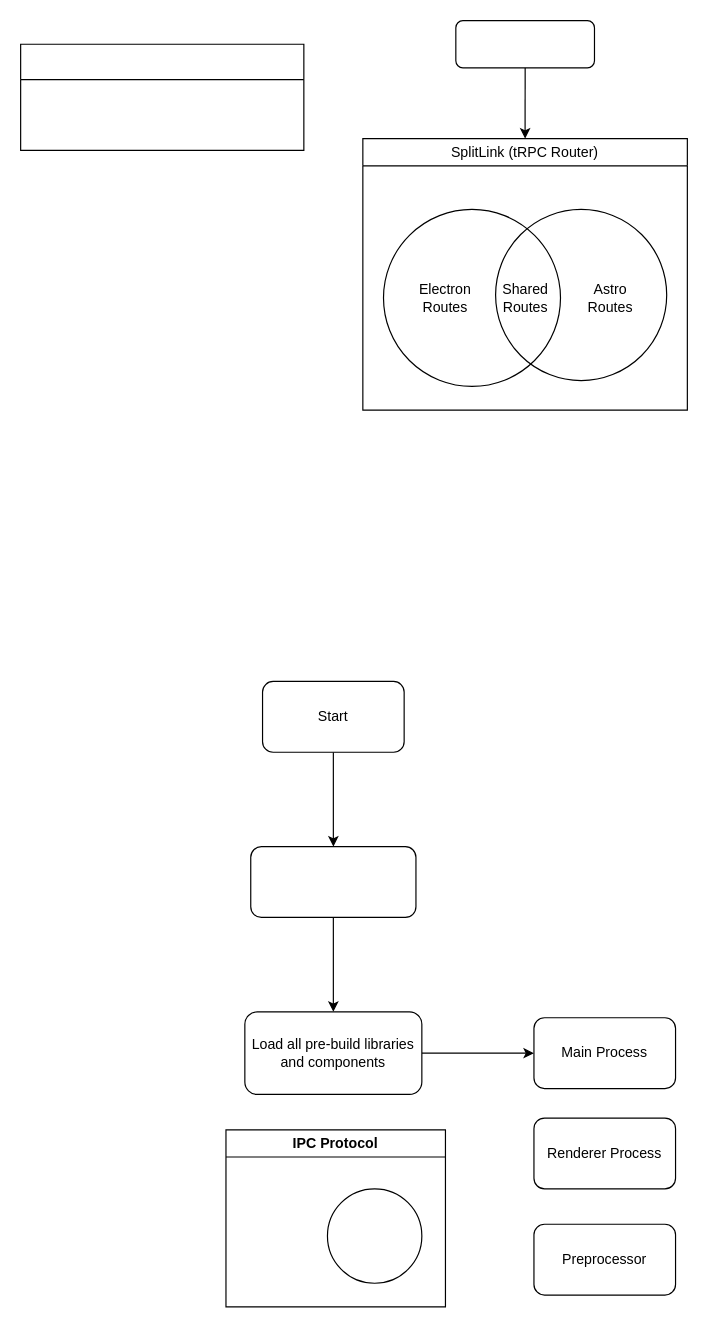
This 708x1328 diagram has some shape labels left out. Each missing label, with the box of its shape:
Electron library loads the index.html: (250, 845, 416, 917)
Library Dependancy: (19, 43, 304, 150)
tRPC: (326, 1188, 422, 1283)
tRPC Router: (455, 19, 594, 68)
